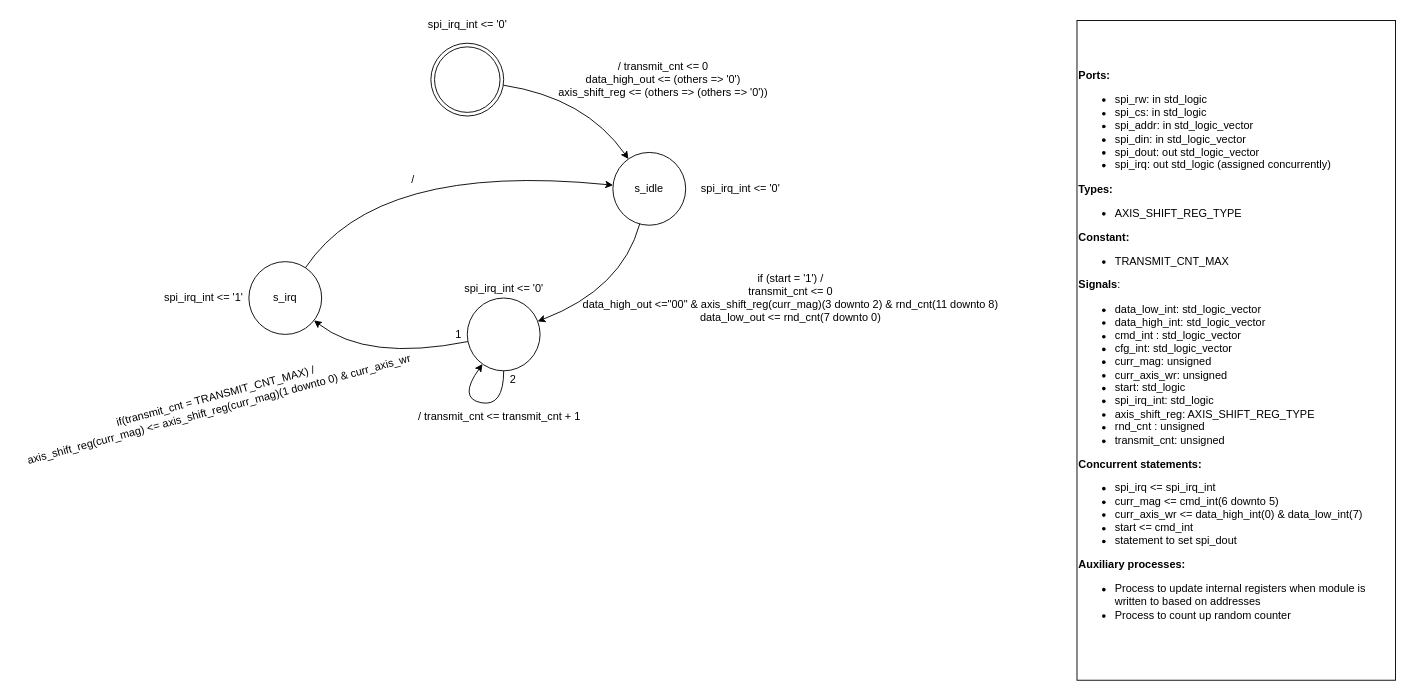
The diagram is 1411 pixels wide and 696 high, and some of its shapes have lost their labels. The centre of each missing label's shape, as x and y in pixels:
s_rst: point (467, 79)
s_transmit: point (503, 334)
